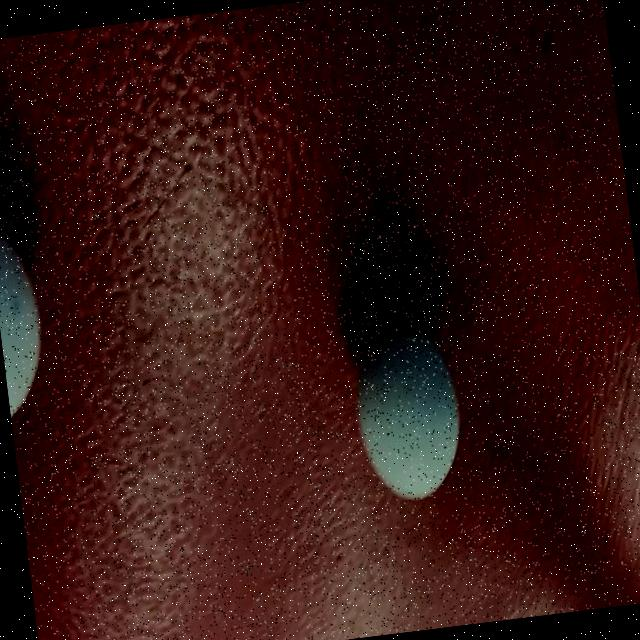ping-pong-ball: (306, 276, 488, 532), (0, 141, 75, 468)
